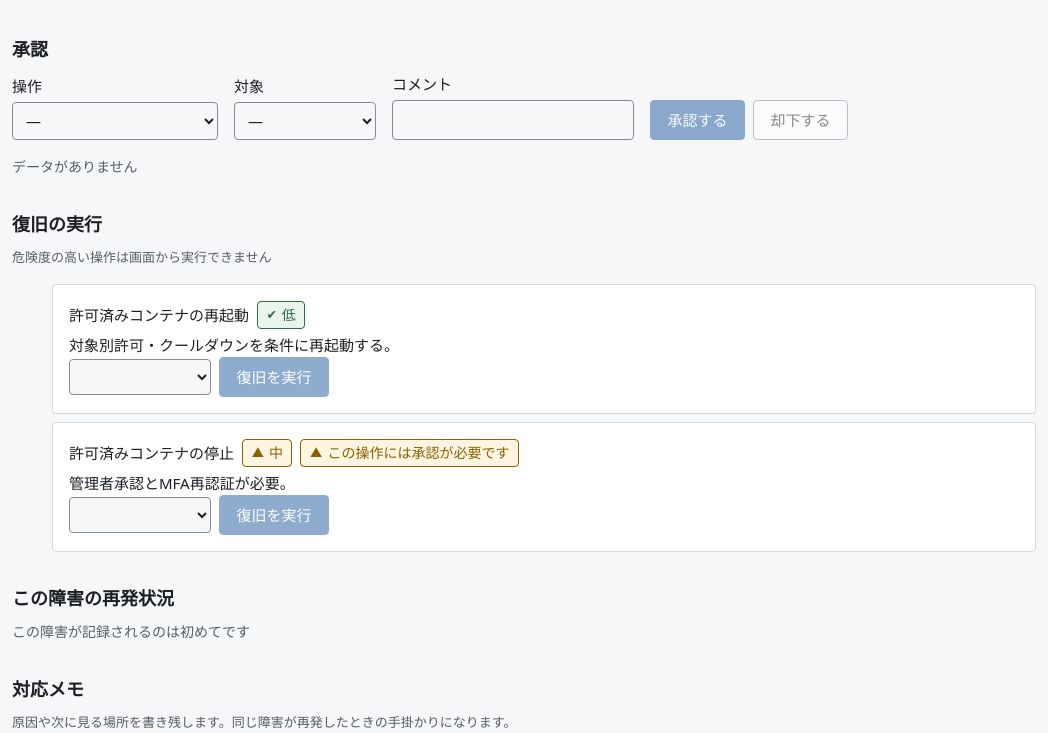
Test: IncidentDetailView › 許可コンテナを選ぶまで実行ボタンを押せない
(page scrolled)
Expected: the button "復旧を実行" below "許可済みコンテナの再起動" is disabled, [219,357,329,397]
Step 1. Select "nextcloud-app" in the dropdown with id "resource-RESTART_ALLOWED_CONTAINER" → x=140, y=377, box [69,359,211,395]
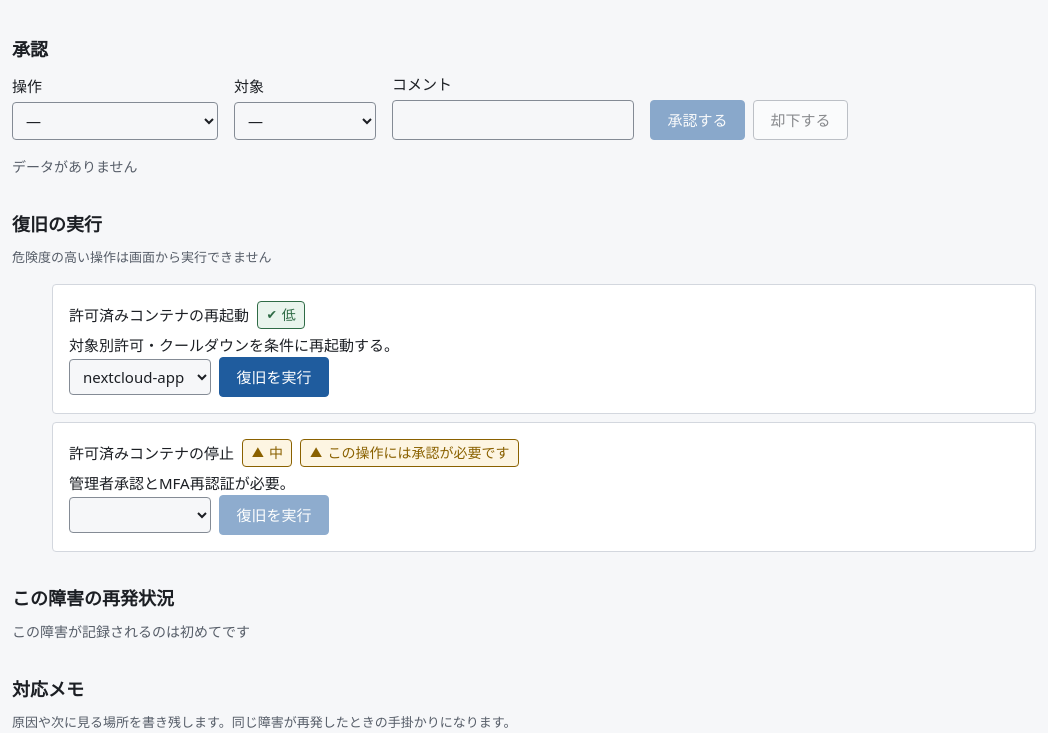
Expected: the button "復旧を実行" below "許可済みコンテナの再起動" is enabled, [219,357,329,397]
